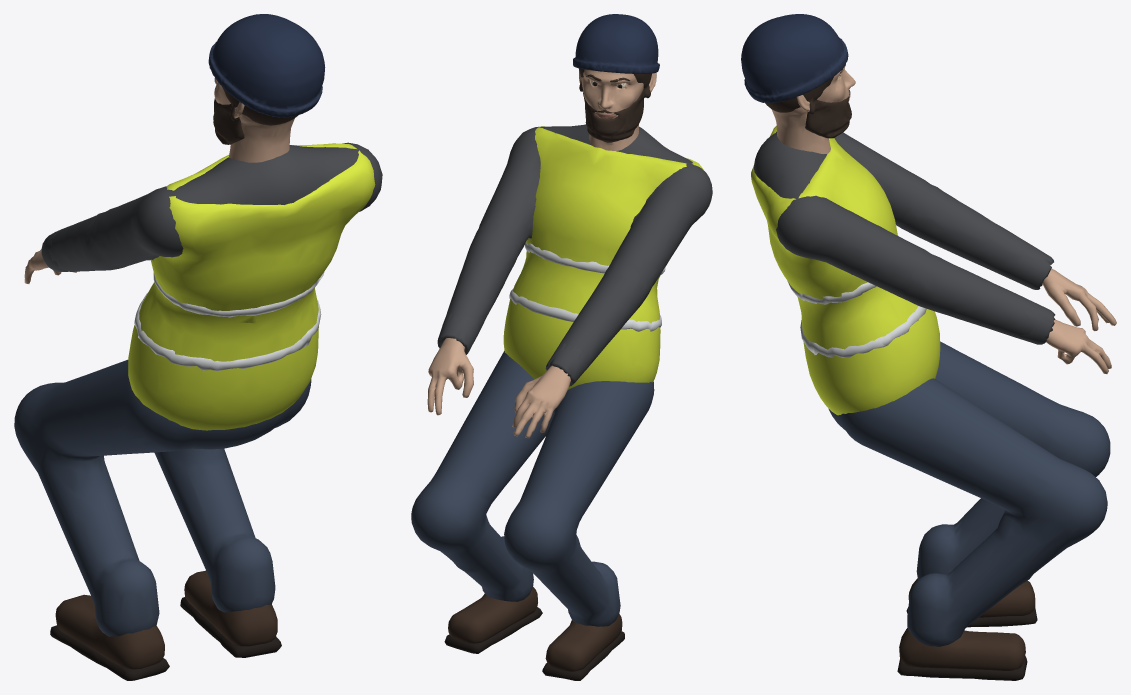
Rendered from crew_a.glb.
3 views of the same model, side by side, from view 1: azimuth 30°, elevation 25°; view 2: azimuth 150°, elevation 25°; view 3: azimuth 270°, elevation 25° (orthographic). The views are drawn at different scales.
Parts seen in each view (by area): view 1: crew_a_body, crew_a_head, crew_a_hands; view 2: crew_a_body, crew_a_head, crew_a_hands; view 3: crew_a_body, crew_a_head, crew_a_hands.
Boxes of the visible parts, <box> form: crew_a_body: <box>14,142,382,680</box>; crew_a_head: <box>208,14,325,162</box>; crew_a_hands: <box>24,229,76,283</box>; crew_a_body: <box>411,124,712,680</box>; crew_a_head: <box>573,14,659,150</box>; crew_a_hands: <box>427,313,590,438</box>; crew_a_body: <box>751,126,1110,680</box>; crew_a_head: <box>741,14,855,153</box>; crew_a_hands: <box>1007,244,1116,373</box>.
Size of the model in its own units: 0.5121 by 1.43 by 0.7791.
